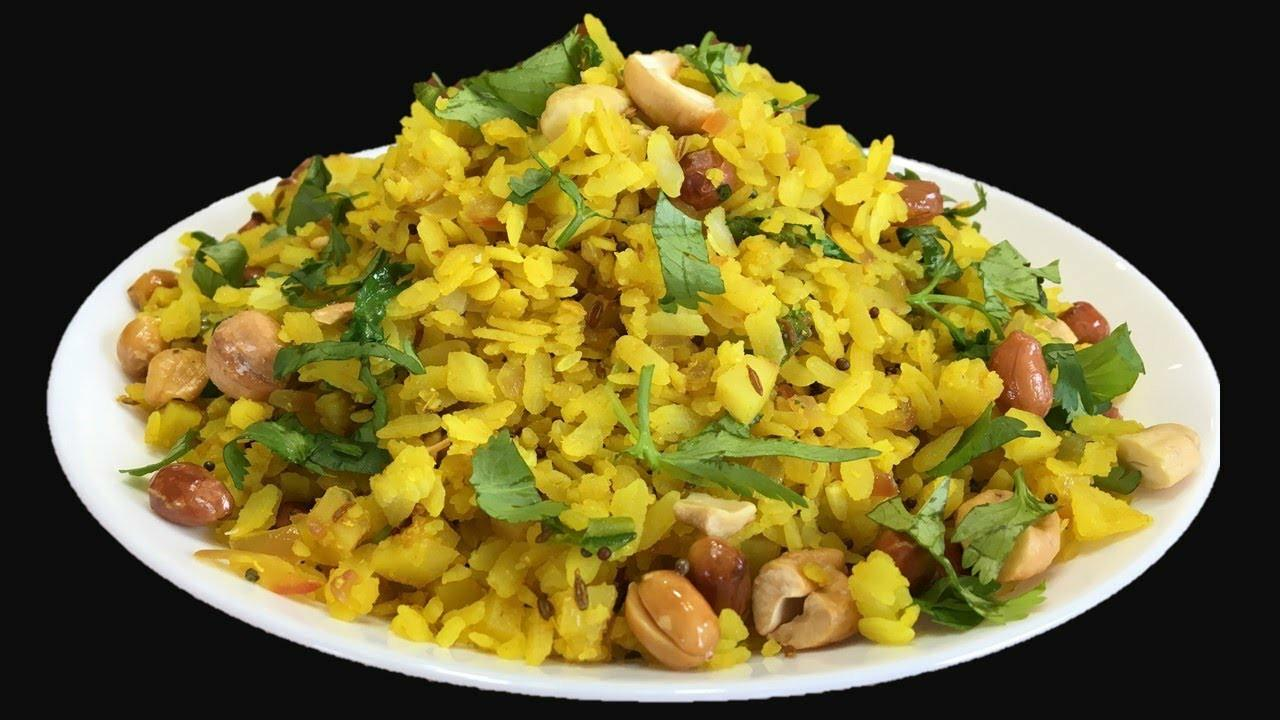Poha: (116, 10, 1205, 667)
